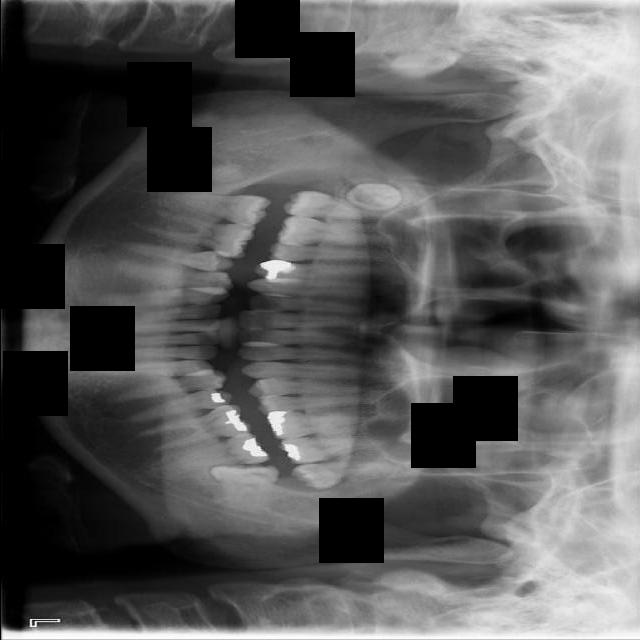3M ESPE Implant: (344, 181, 403, 213)
52: (204, 210, 258, 265), (198, 399, 253, 452), (217, 428, 270, 474), (275, 427, 322, 476), (251, 258, 307, 286), (265, 410, 303, 440), (187, 388, 233, 409)
73: (14, 624, 20, 628)
BioHorizons Implant: (277, 437, 396, 464)
BioLife Implant: (288, 456, 394, 492)
Biomet 3i Implant: (204, 457, 279, 515)
Blue Sky Bio Implant: (168, 432, 270, 469)
Caries: (281, 190, 409, 222)
Implant: (169, 187, 271, 229)
